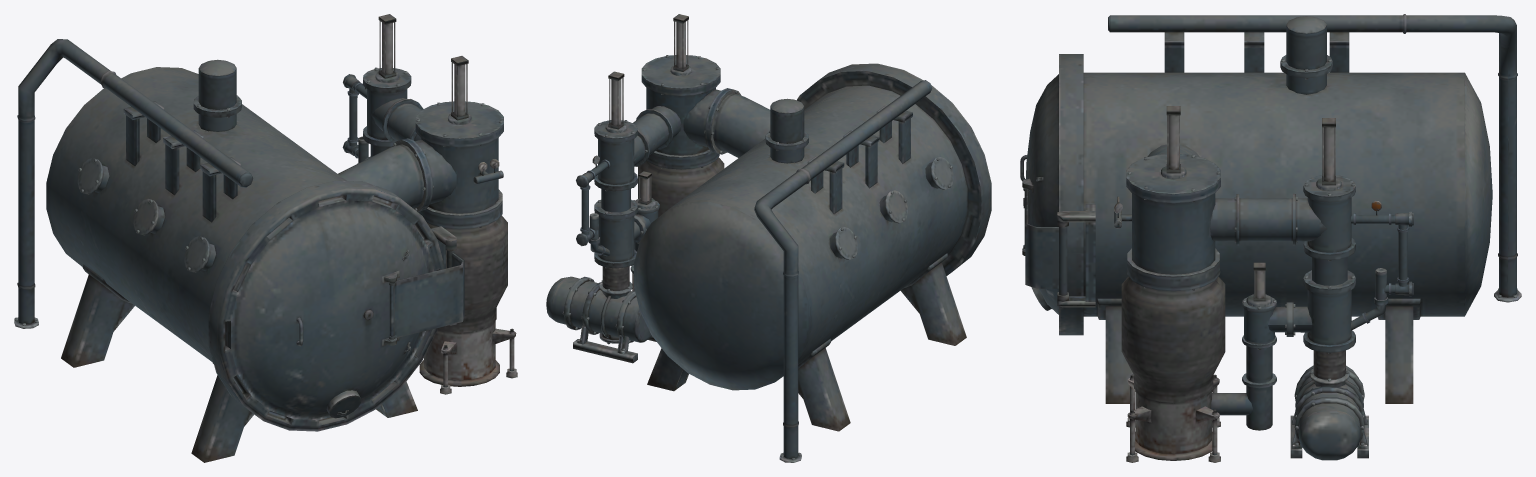
File: sm22_030_heatfurnace01a.fbx
3 renders of one model, left to right at view 1: azimuth 30°, elevation 25°; view 2: azimuth 150°, elevation 25°; view 3: azimuth 270°, elevation 25°, orthographic. The views are drawn at different scales.
Parts seen in each view (by area): view 1: LOD_1_Group_0_Sub_1__sm22_030_HeatFurnace01A_A_Mat__Env_defa, LOD_1_Group_0_Sub_2__sm22_030_HeatFurnace01A_B_Mat; view 2: LOD_1_Group_0_Sub_1__sm22_030_HeatFurnace01A_A_Mat__Env_defa, LOD_1_Group_0_Sub_2__sm22_030_HeatFurnace01A_B_Mat; view 3: LOD_1_Group_0_Sub_1__sm22_030_HeatFurnace01A_A_Mat__Env_defa, LOD_1_Group_0_Sub_2__sm22_030_HeatFurnace01A_B_Mat.
Part boxes in pixels (x1=…): LOD_1_Group_0_Sub_1__sm22_030_HeatFurnace01A_A_Mat__Env_defa: x1=46, y1=67, x2=444, y2=462; LOD_1_Group_0_Sub_2__sm22_030_HeatFurnace01A_B_Mat: x1=14, y1=14, x2=517, y2=394; LOD_1_Group_0_Sub_1__sm22_030_HeatFurnace01A_A_Mat__Env_defa: x1=634, y1=63, x2=991, y2=431; LOD_1_Group_0_Sub_2__sm22_030_HeatFurnace01A_B_Mat: x1=546, y1=14, x2=953, y2=462; LOD_1_Group_0_Sub_1__sm22_030_HeatFurnace01A_A_Mat__Env_defa: x1=1020, y1=54, x2=1492, y2=403; LOD_1_Group_0_Sub_2__sm22_030_HeatFurnace01A_B_Mat: x1=1025, y1=14, x2=1521, y2=462.
Bounding box in the file's own units: 1.61 × 1.31 × 1.79.
